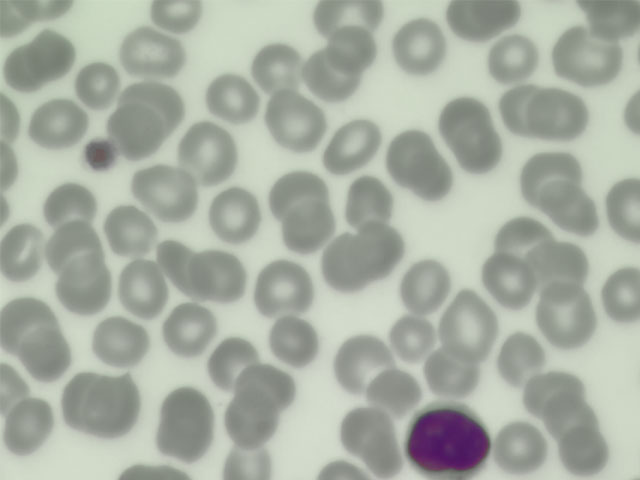Platelets: (85, 139, 119, 174)
RBC: (158, 386, 214, 461), (555, 27, 624, 84), (236, 362, 295, 411), (210, 187, 262, 241), (538, 288, 590, 342), (538, 242, 590, 296), (485, 254, 537, 308), (495, 212, 547, 266), (318, 234, 370, 288), (355, 226, 407, 280), (342, 175, 394, 229), (408, 154, 460, 208), (386, 127, 438, 181), (549, 182, 601, 236), (524, 151, 576, 205), (533, 90, 585, 144), (502, 82, 554, 136), (452, 123, 504, 177), (439, 97, 491, 151), (327, 118, 379, 172), (269, 95, 321, 149), (252, 41, 304, 95), (306, 45, 358, 99), (326, 24, 378, 78), (315, 1, 387, 40), (393, 19, 445, 73), (487, 32, 539, 86), (207, 68, 259, 122), (227, 393, 279, 447), (270, 312, 322, 366), (257, 263, 309, 317), (207, 333, 259, 387), (161, 301, 213, 355), (192, 247, 244, 301), (115, 261, 167, 315), (103, 202, 155, 256), (86, 379, 138, 433), (96, 315, 148, 369), (3, 397, 55, 451), (20, 330, 72, 384), (57, 261, 109, 315), (44, 178, 96, 232), (51, 219, 103, 273), (33, 96, 85, 150), (28, 29, 80, 83), (283, 199, 335, 253), (337, 398, 389, 452), (336, 332, 388, 386), (387, 309, 439, 363), (398, 257, 450, 311), (426, 341, 478, 395), (442, 298, 494, 352), (494, 419, 546, 473), (495, 332, 547, 386), (527, 368, 579, 422), (559, 425, 611, 479), (137, 164, 189, 218), (181, 127, 233, 181), (131, 79, 183, 133), (111, 103, 163, 157), (366, 363, 421, 414), (122, 31, 185, 75), (1, 297, 52, 351), (157, 236, 202, 295), (268, 171, 332, 212), (56, 368, 97, 428), (601, 180, 640, 241), (72, 62, 124, 107), (546, 394, 596, 440), (1, 225, 44, 278), (445, 1, 507, 37), (580, 1, 640, 38), (2, 47, 48, 94), (600, 268, 640, 321), (223, 441, 274, 479), (151, 1, 204, 36), (360, 438, 404, 477), (1, 143, 27, 201), (19, 1, 71, 29), (1, 93, 27, 143), (1, 362, 24, 410), (316, 456, 363, 479)
WBC: (406, 410, 493, 474)
